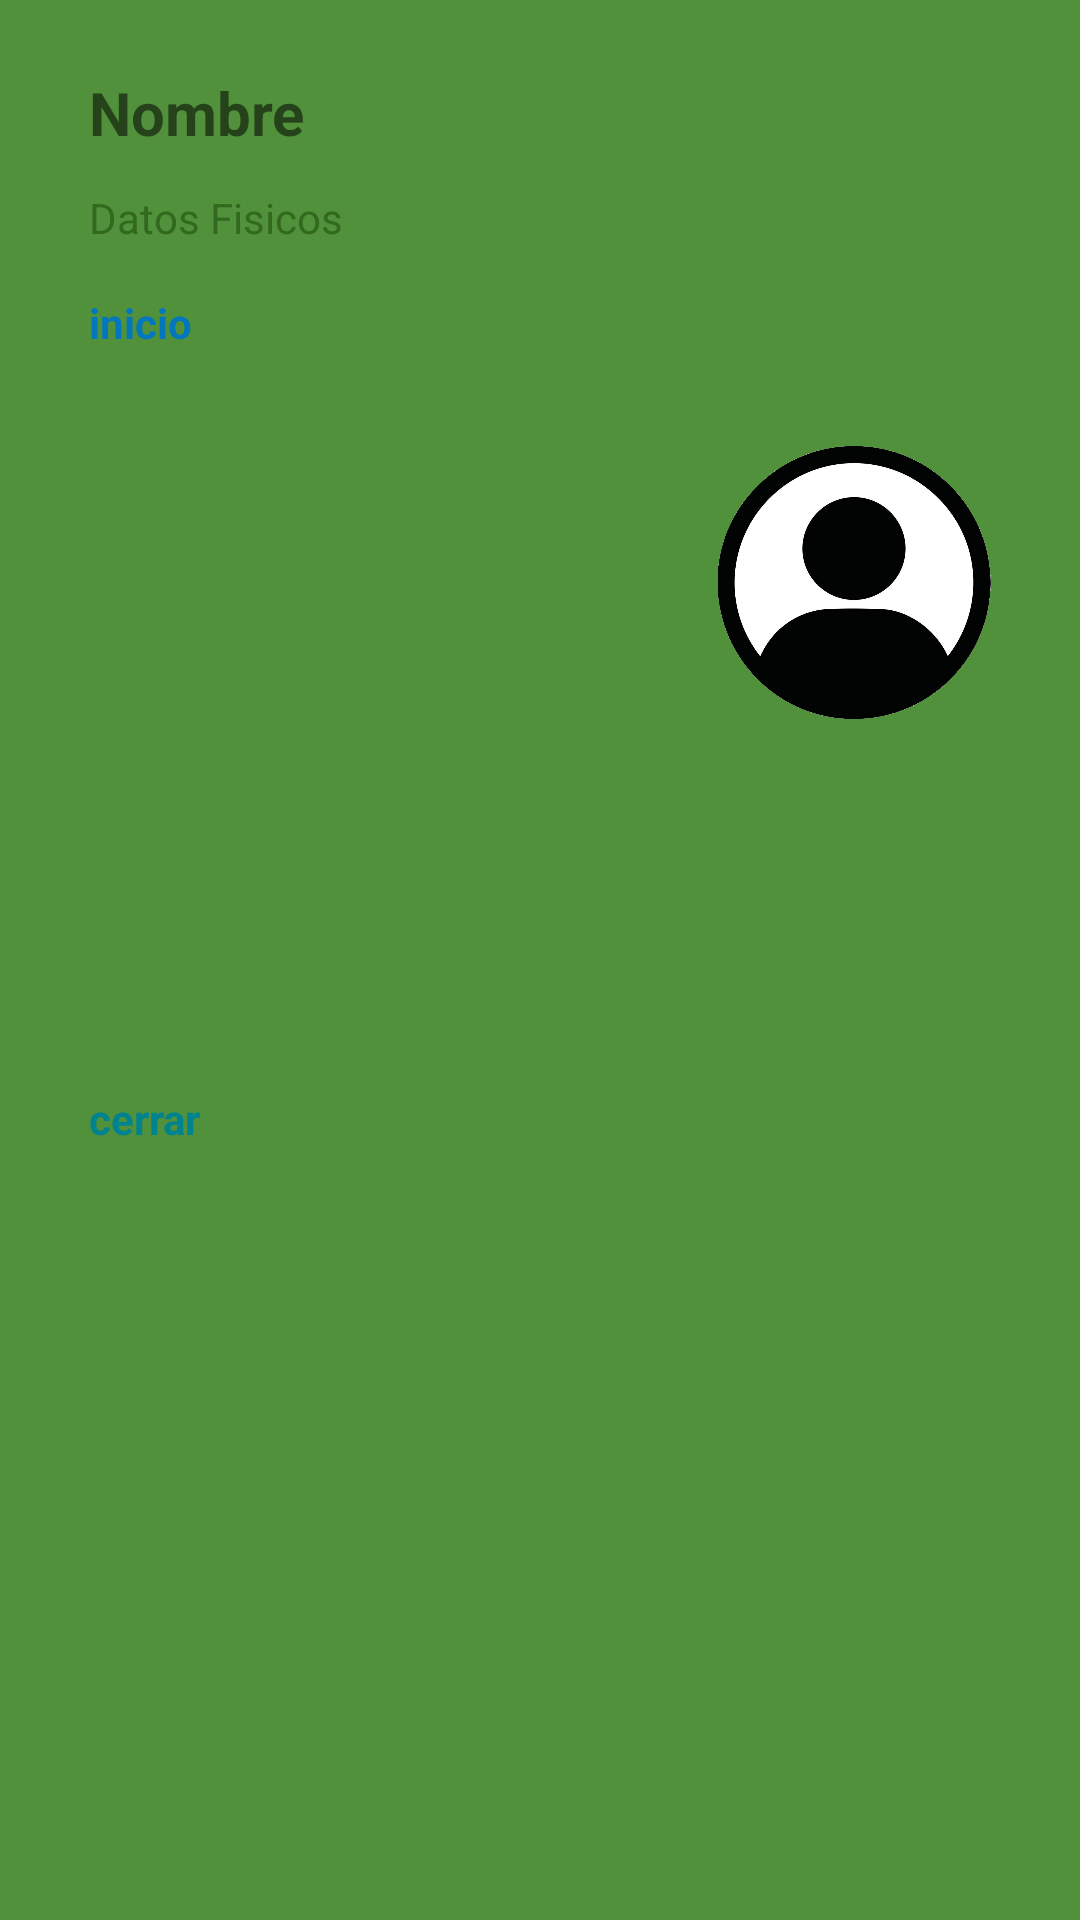

Icon click points for this 1080 × 1920 phone screenshot, format (x=x, y=y):
profile: (x=854, y=582)
